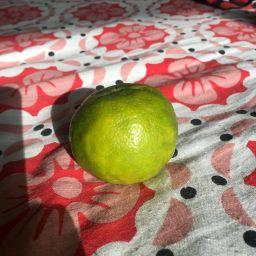Unripe: (68, 88, 178, 185)
